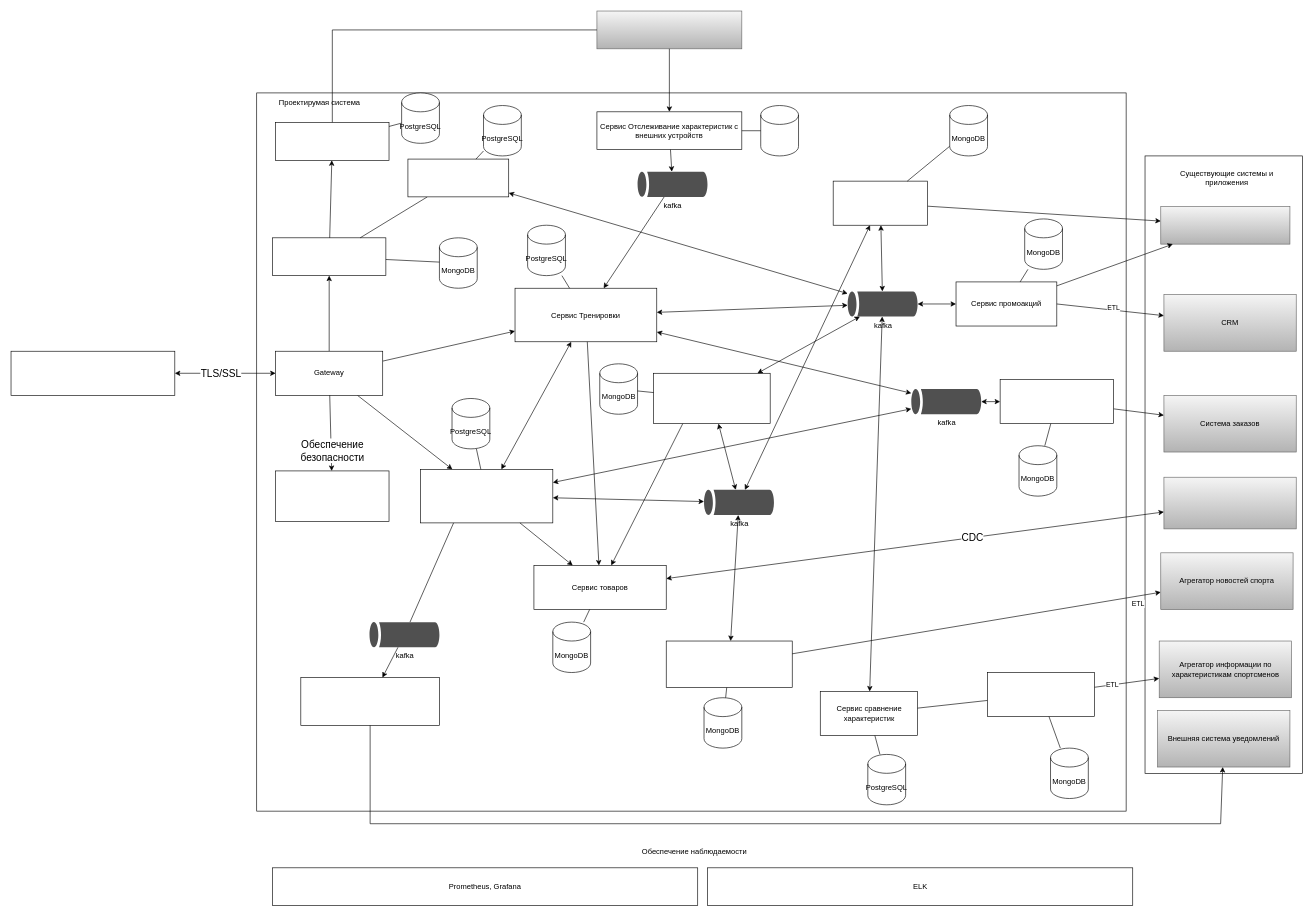
This 1314x917 diagram has some shape labels left out. The box of each missing label's shape, as (x1, y1, x2, y2) in pixels:
CassandraDB: (760, 105, 799, 156)
ERP: (1163, 477, 1296, 529)
Мобильное приложение: (10, 351, 175, 395)
Сервис аутентификации/авторизации: (275, 470, 389, 521)
Сервис Группы по интересам: (420, 469, 553, 523)
Сервис заказа: (999, 379, 1114, 424)
Сервис Инвентарь пользователя: (407, 158, 509, 197)
Сервис локации: (1160, 206, 1290, 244)
Сервис новостей спорта: (666, 640, 792, 688)
Сервис Рекомендации пользователей в общую группу: (833, 180, 928, 225)
Сервис Рекомендации товаров: (653, 373, 770, 424)
Сервис Социальная часть профиля пользователя: (272, 237, 386, 276)
Сервис Сторонние устройства: (275, 122, 389, 160)
Сервис уведомлений: (300, 677, 439, 725)
Сервис характеристиками спортсменов: (987, 672, 1095, 717)
Сторонние устройства: (596, 10, 742, 49)
